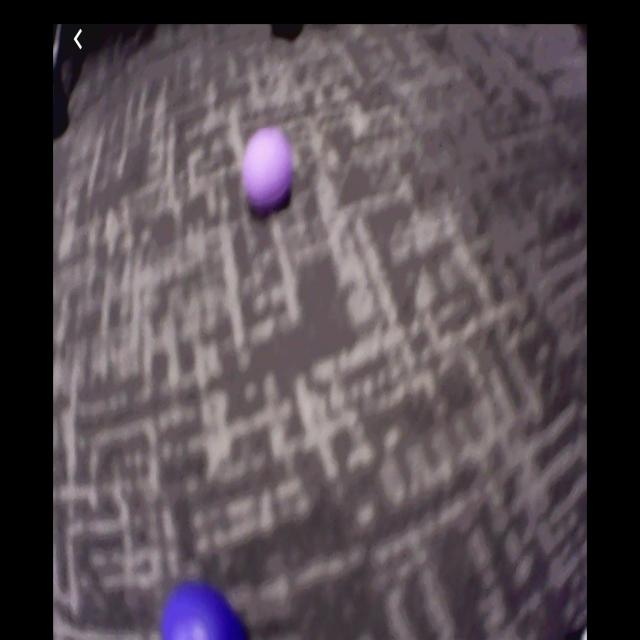ball: (161, 578, 242, 640), (243, 126, 293, 208)
